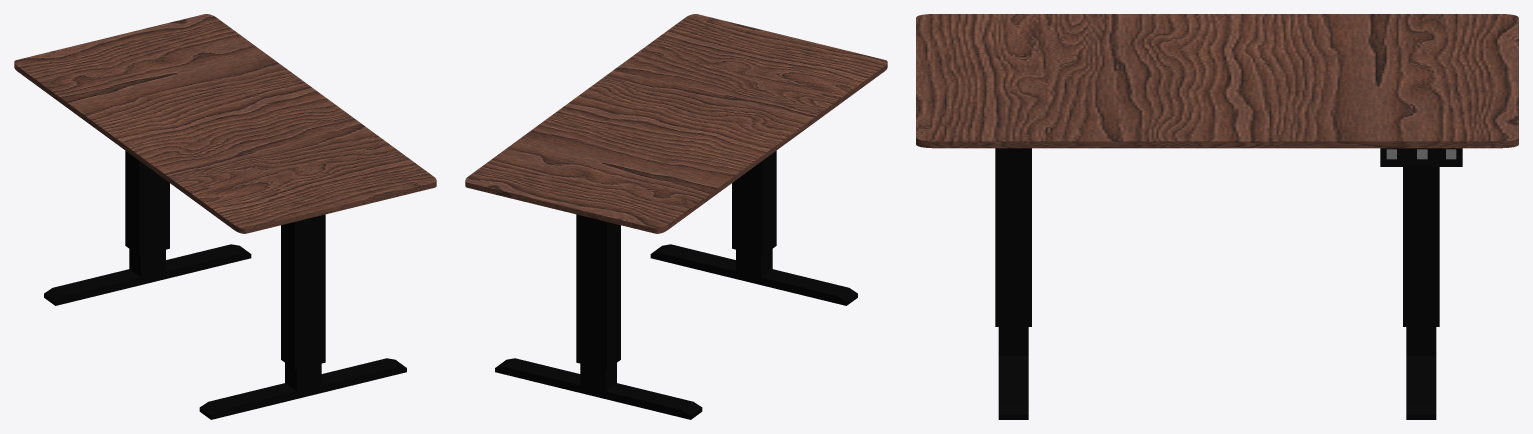
File: GameJamTafelMetMonitor.fbx
3 views of the same model, side by side, from view 1: azimuth 30°, elevation 25°; view 2: azimuth 150°, elevation 25°; view 3: azimuth 270°, elevation 25° (orthographic). The views are drawn at different scales.
Visible parts, largest first — view 1: Cube; view 2: Cube; view 3: Cube.
Boxes of the visible parts, bbox=[...] form: Cube: bbox=[14, 14, 436, 419]; Cube: bbox=[465, 14, 887, 419]; Cube: bbox=[916, 14, 1518, 419].
Size of the model in its own units: 100 by 102 by 200.
